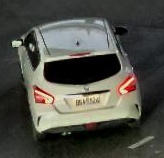nissan: (81, 85, 89, 93)
